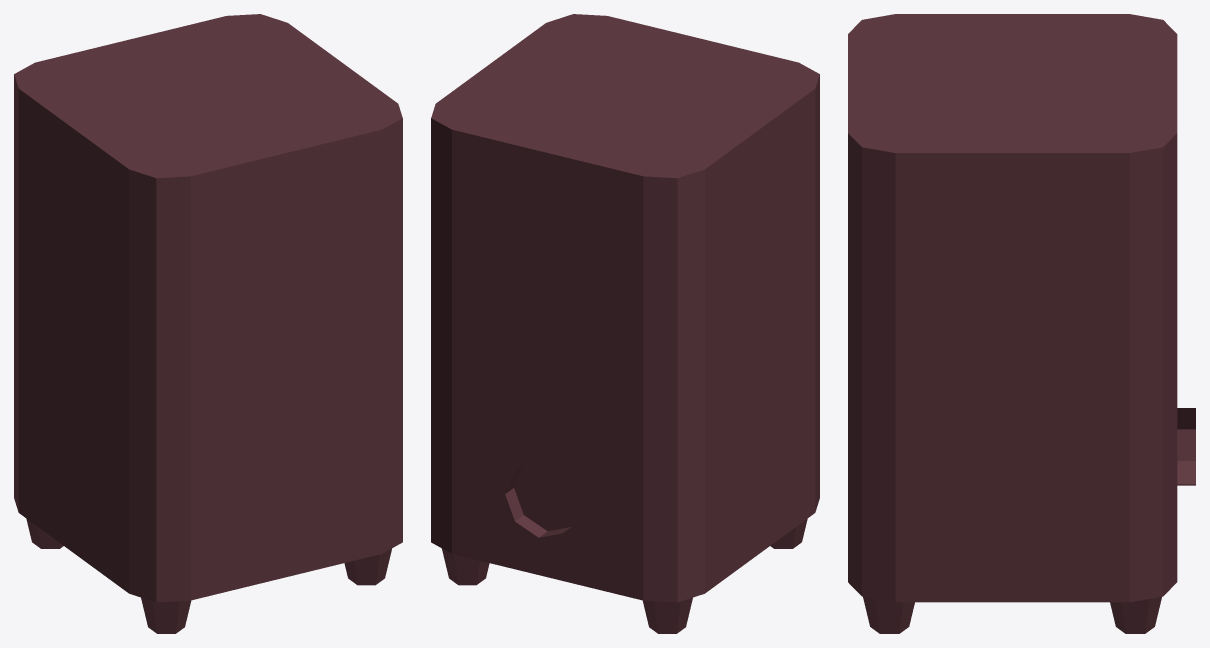
The model's file is electronics-speaker-small.glb.
3 views of the same model, side by side, from view 1: azimuth 30°, elevation 25°; view 2: azimuth 150°, elevation 25°; view 3: azimuth 270°, elevation 25° (orthographic). The views are drawn at different scales.
Visible parts, largest first — view 1: speaker-small; view 2: speaker-small; view 3: speaker-small.
Part boxes in pixels (x1,y1,x2,y2): speaker-small: (14, 14, 402, 633); speaker-small: (431, 14, 819, 633); speaker-small: (848, 14, 1195, 633).
Bounding box in the file's own units: 0.12 × 0.1977 × 0.1268.
